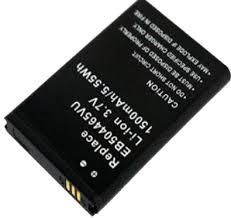battery: (2, 0, 231, 218)
